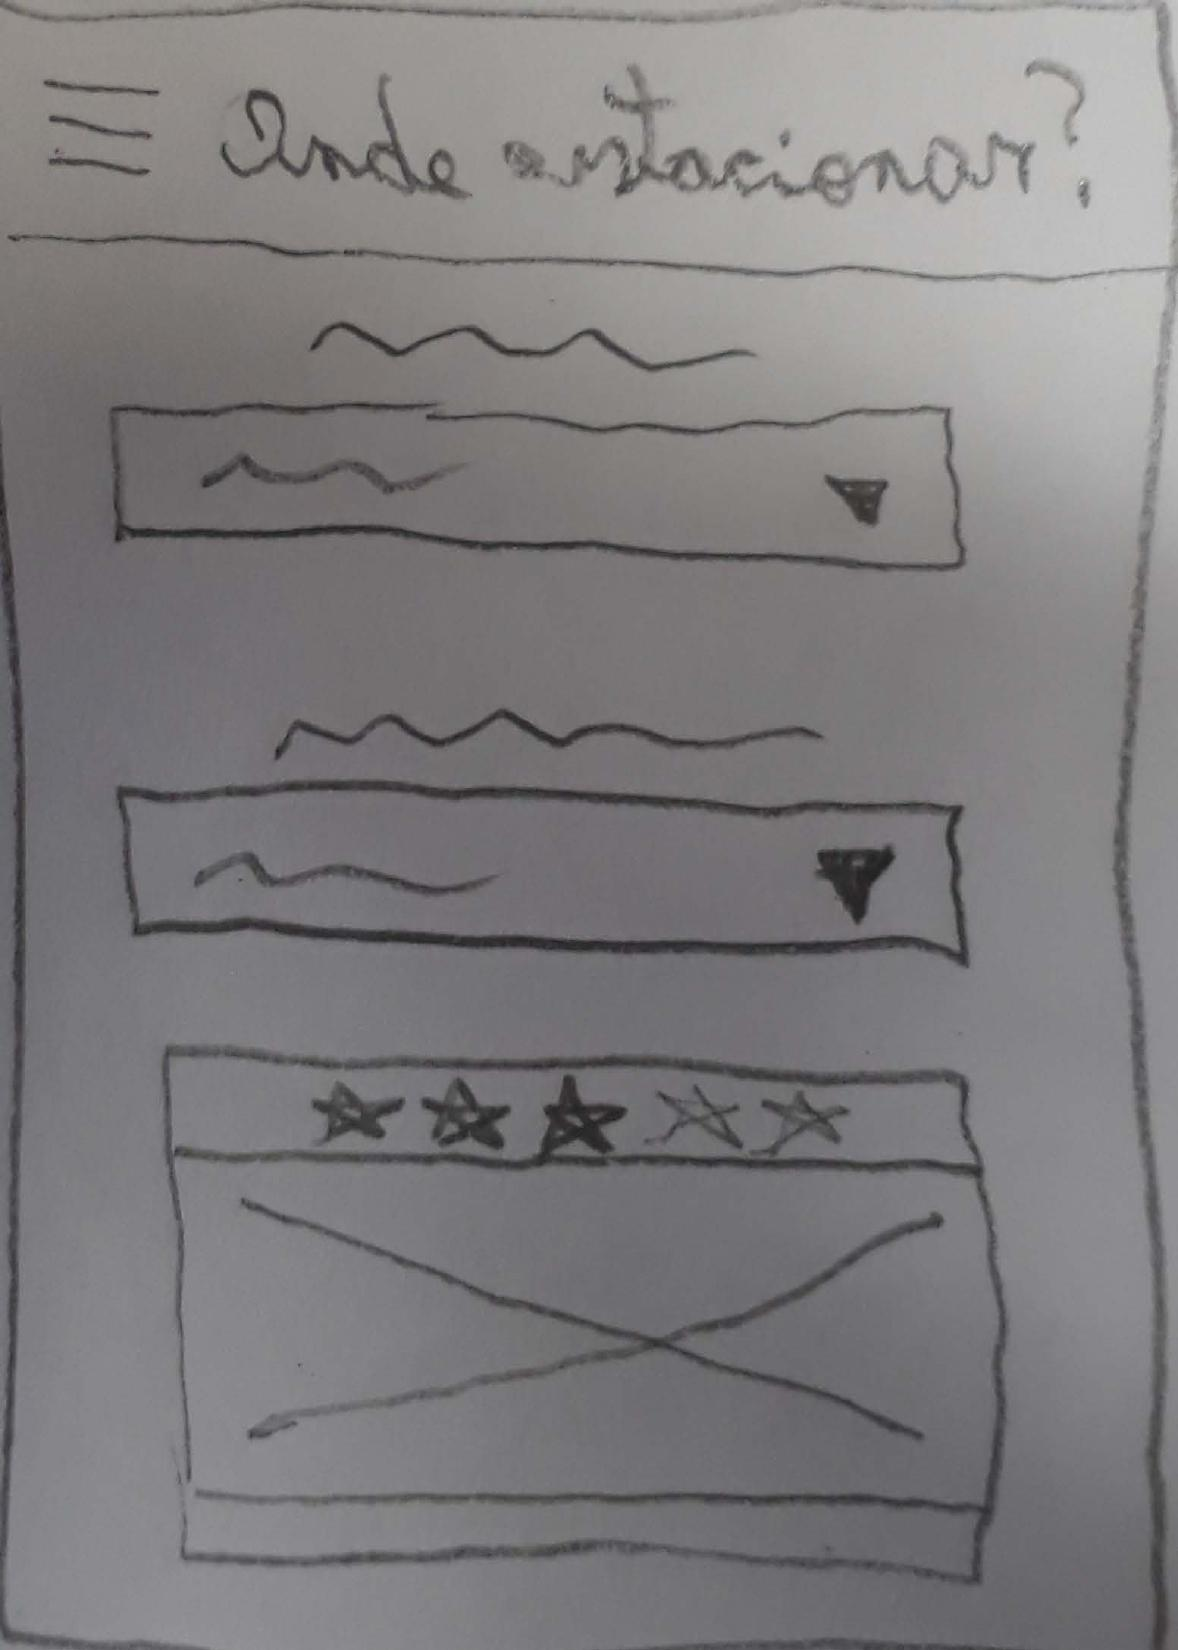Button: (33, 66, 164, 177)
Image: (168, 1143, 1005, 1514)
Label: (205, 57, 1099, 217), (300, 1069, 854, 1158), (306, 306, 766, 384), (272, 704, 826, 765)
ListPicker: (112, 779, 970, 968), (102, 399, 969, 571)
Screen: (3, 1, 1177, 1647)
